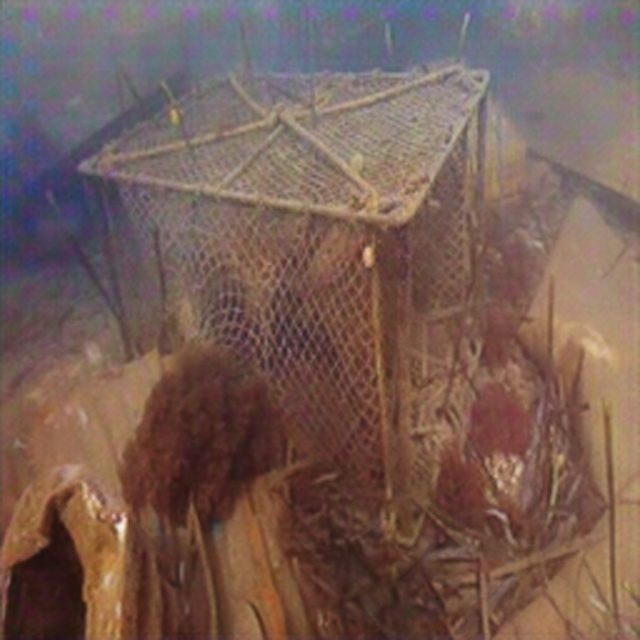mine: (75, 65, 493, 552)
